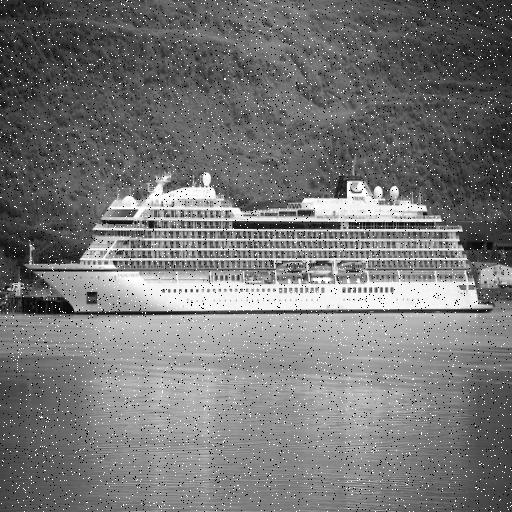cruises: (23, 147, 496, 320)
